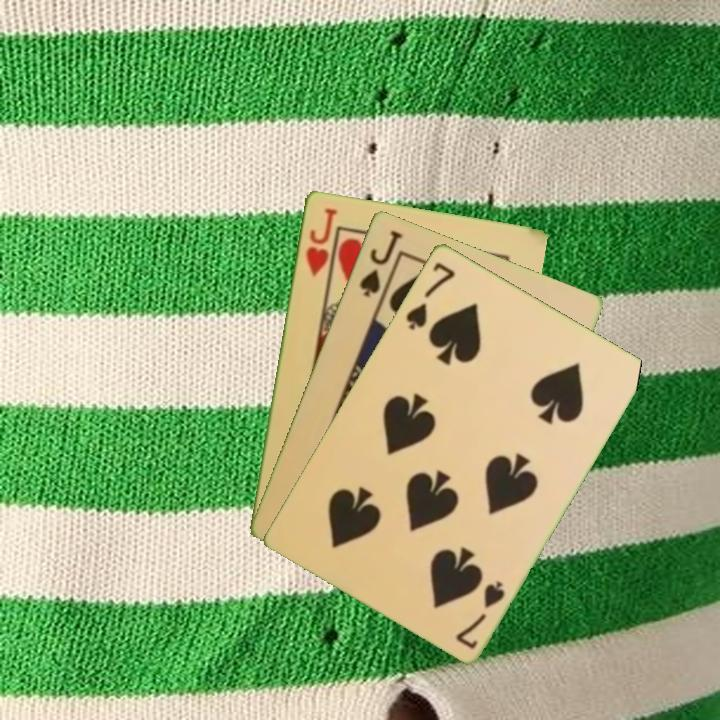7s: (452, 576, 508, 652), (402, 258, 458, 333)
Jh: (302, 204, 340, 279)
Js: (355, 226, 405, 300)
